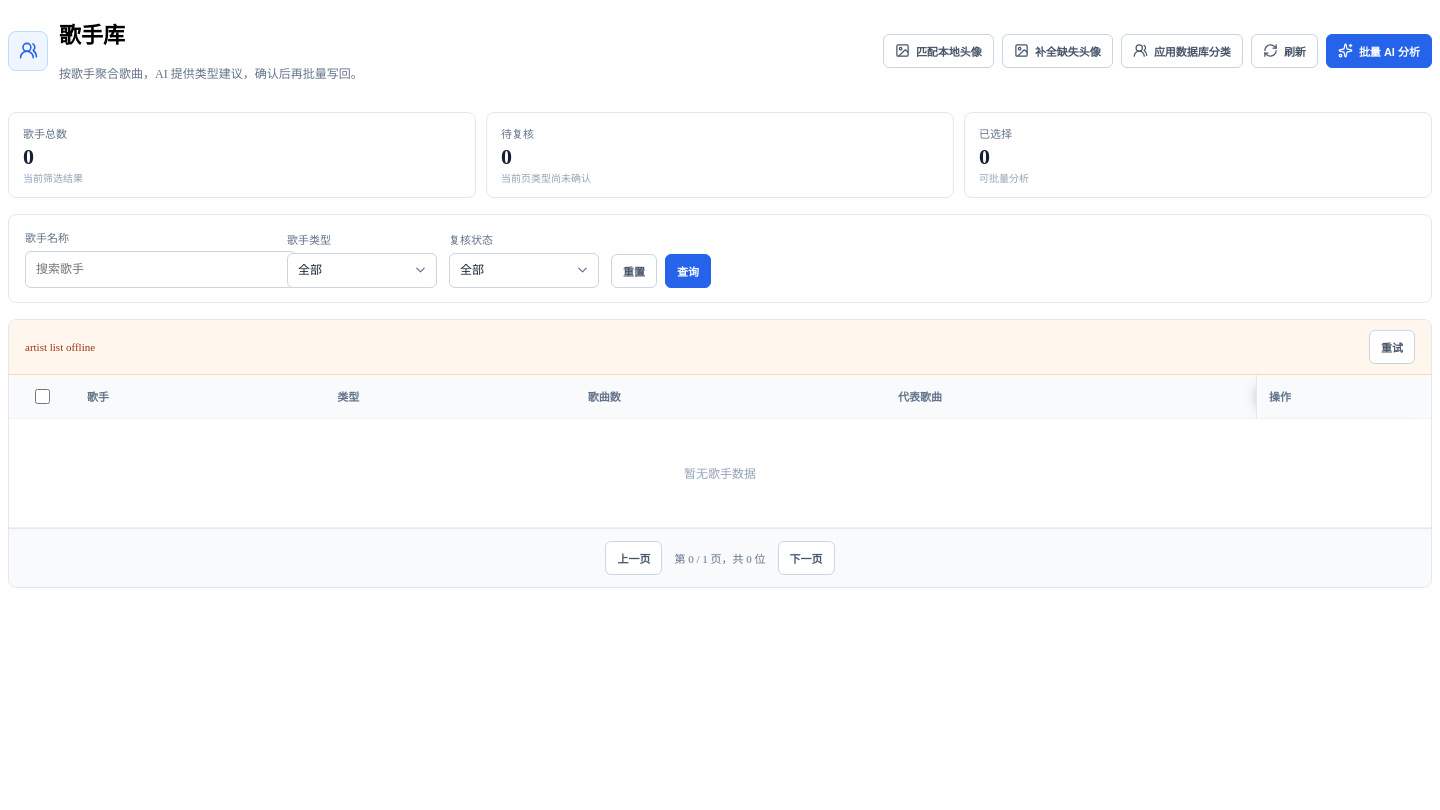
ArtistLibraryView › recovers from artist list errors and renders an empty response safely
The width and height of the screenshot is (1440, 810).
Check: the message "artist list offline 重试" is shown, box [9,320,1431,375]
What coordinates should you click on to do the following:
click the button with class "secondary" showing "重试"
I would click on:
 (1392, 347)
Its box is [1369,330,1415,364].
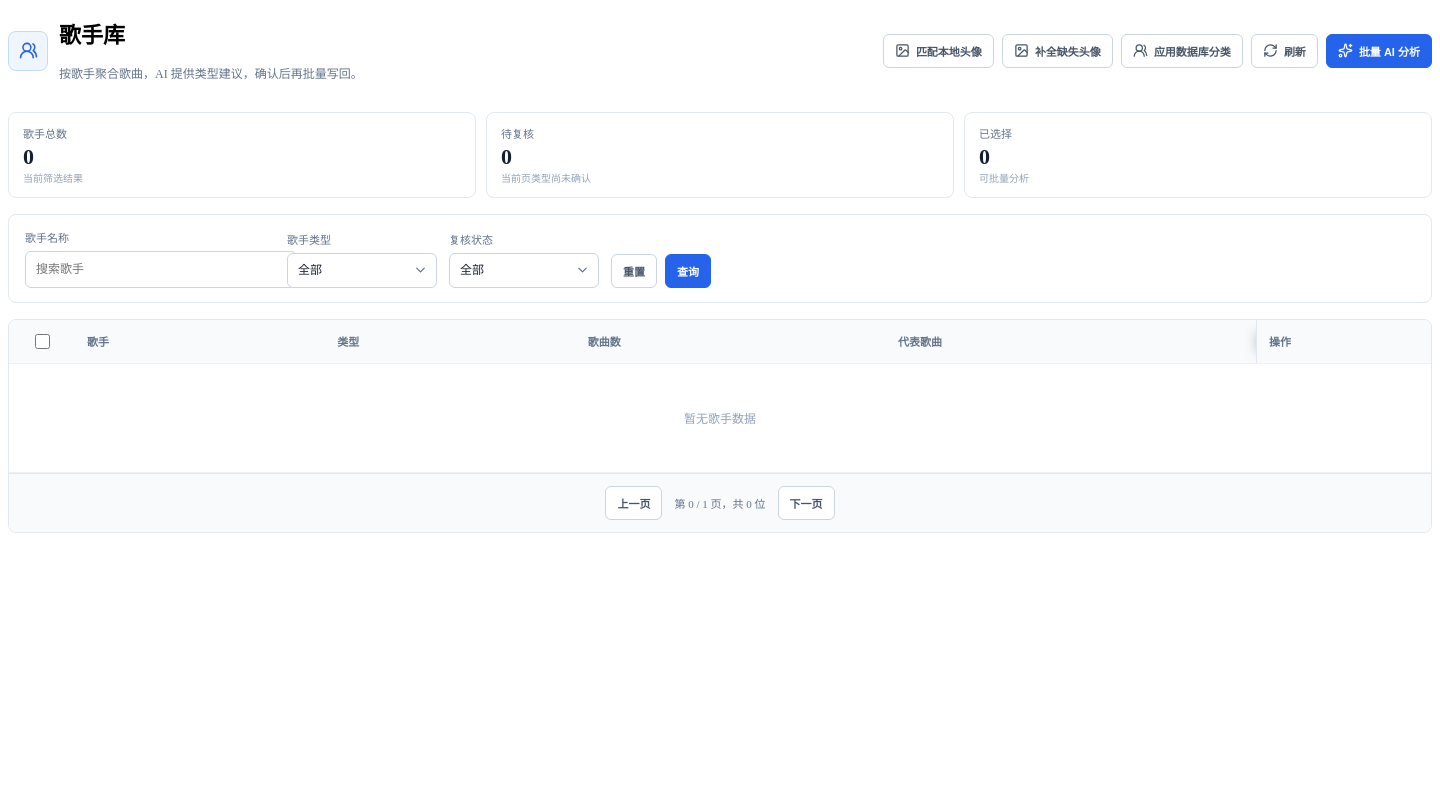
Check: the cell with class "empty" reads "暂无歌手数据", box [684,412,756,426]
Check: the message "artist list offline 重试" is gone
